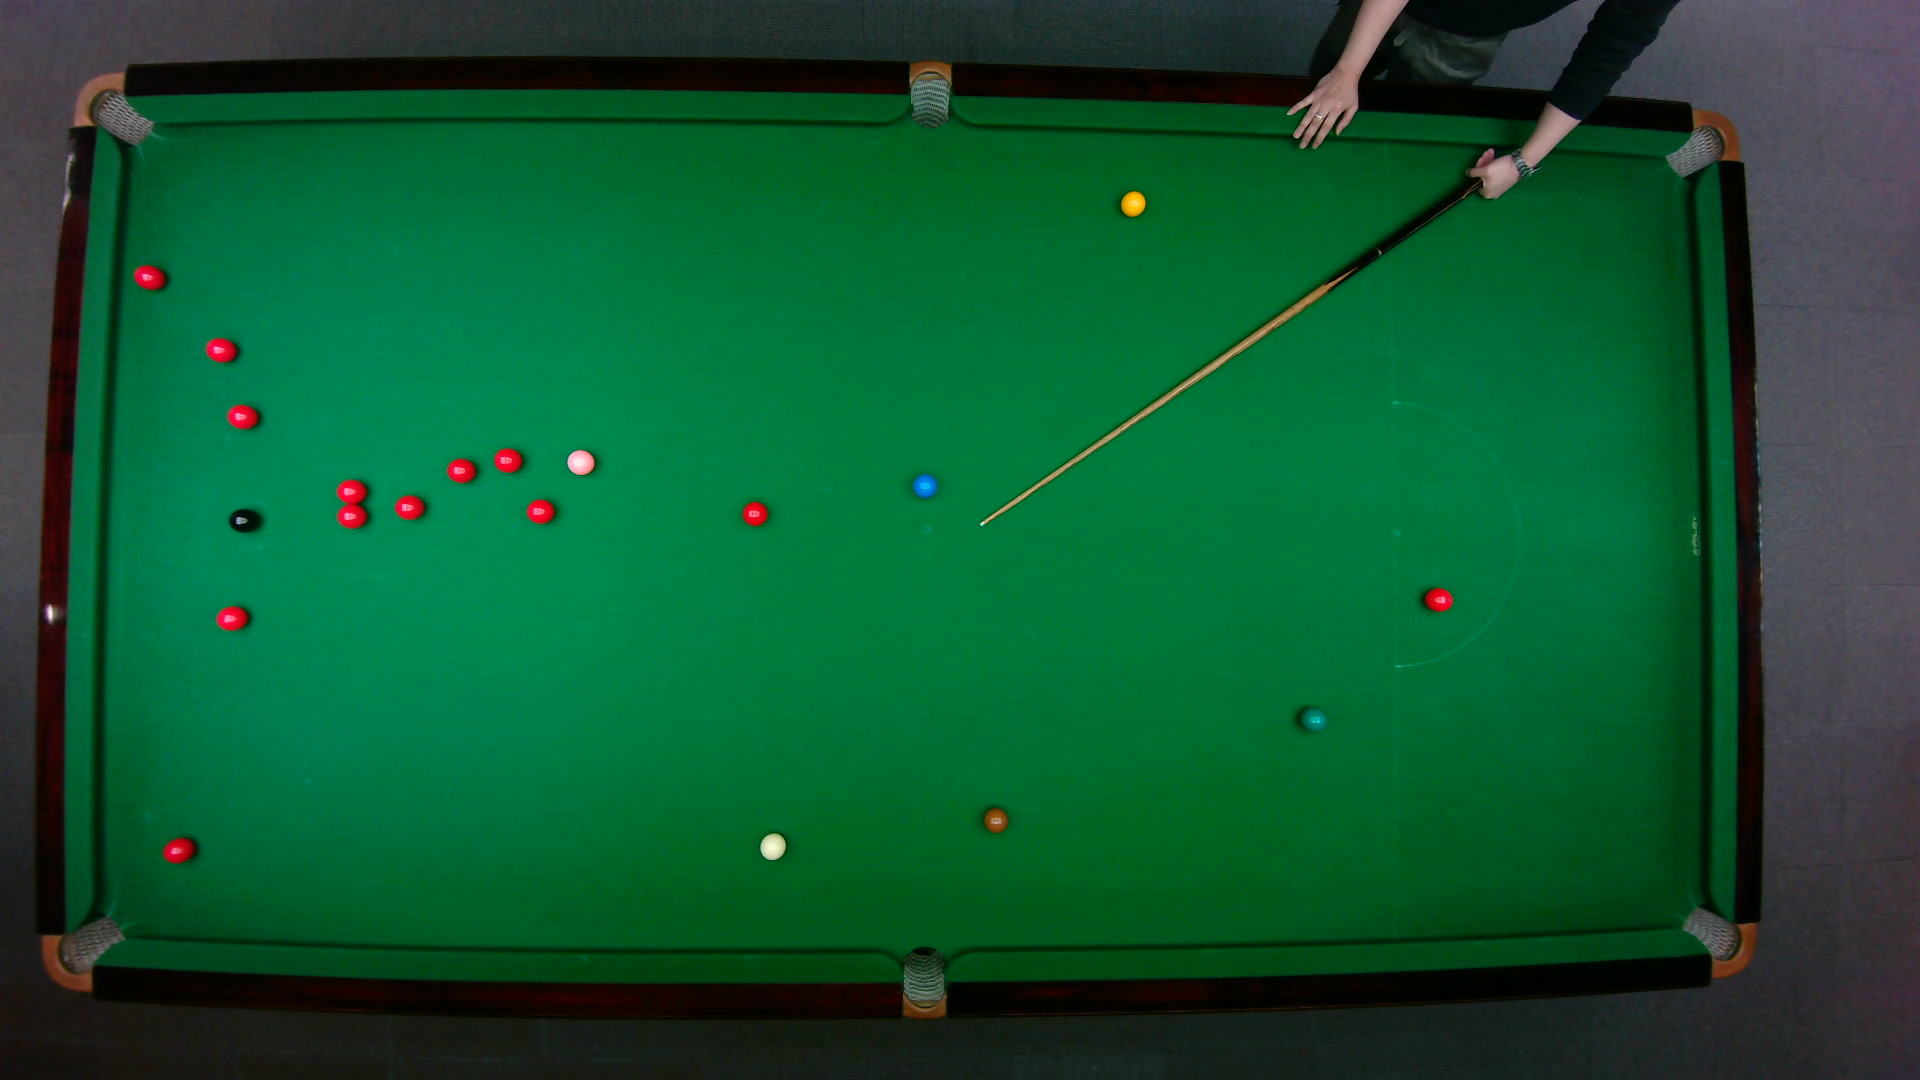bag: (40, 914, 127, 992), (71, 73, 156, 146), (1679, 905, 1758, 978), (1663, 108, 1741, 179), (902, 945, 947, 1021), (909, 61, 951, 129)
black: (227, 506, 258, 534)
blue: (911, 473, 938, 498)
brown: (981, 806, 1010, 833)
cue: (977, 175, 1484, 527)
green: (1298, 705, 1328, 732)
pink: (564, 448, 596, 476)
red: (132, 262, 167, 291), (161, 836, 196, 865), (204, 336, 239, 364), (224, 404, 258, 431), (1422, 585, 1455, 613), (215, 605, 249, 632), (526, 497, 556, 526), (444, 458, 477, 484), (491, 447, 524, 473), (335, 504, 368, 530), (335, 477, 368, 504), (393, 495, 426, 521), (740, 500, 770, 527)
white: (758, 831, 789, 862)
yellow: (1120, 189, 1149, 218)
zone: (1391, 400, 1520, 669)
